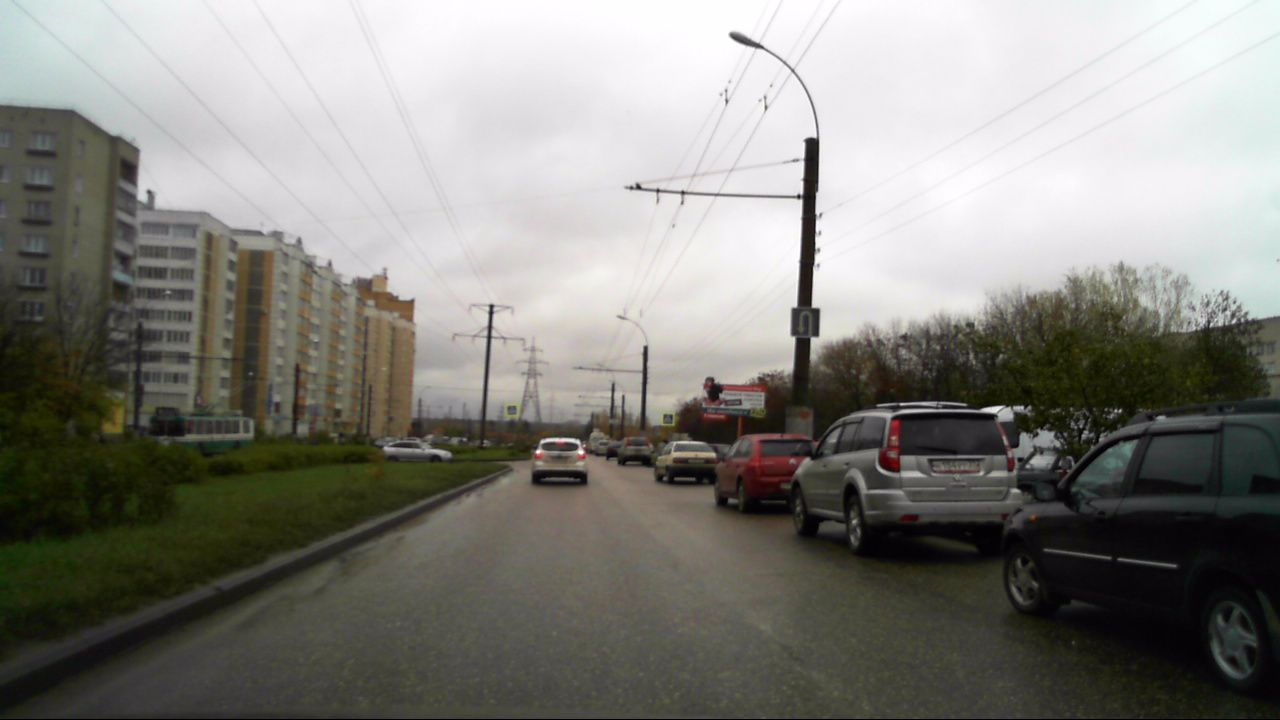U-turn: (791, 308, 820, 337)
